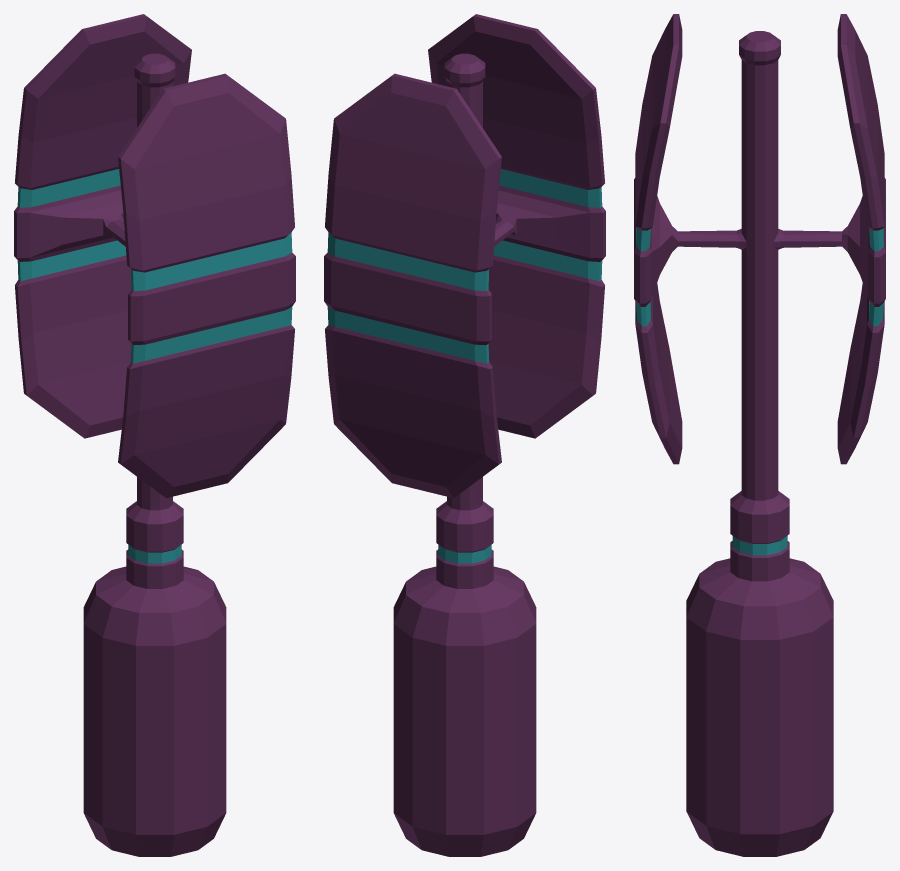
File: Aerial.fbx
The picture shows the model from 3 angles, left to right: view 1: azimuth 30°, elevation 25°; view 2: azimuth 150°, elevation 25°; view 3: azimuth 270°, elevation 25°; orthographic projection. The views are drawn at different scales.
Visible parts, largest first — view 1: Aerial; view 2: Aerial; view 3: Aerial.
Boxes of the visible parts, x1,y1,x2,y2 form: Aerial: [14, 14, 295, 856]; Aerial: [324, 14, 605, 856]; Aerial: [634, 14, 885, 856].
Bounding box in the file's own units: 45.41 × 208 × 58.28.
